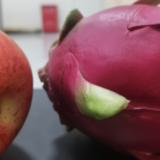apple: (1, 30, 33, 160)
pitaya: (41, 1, 160, 153)
